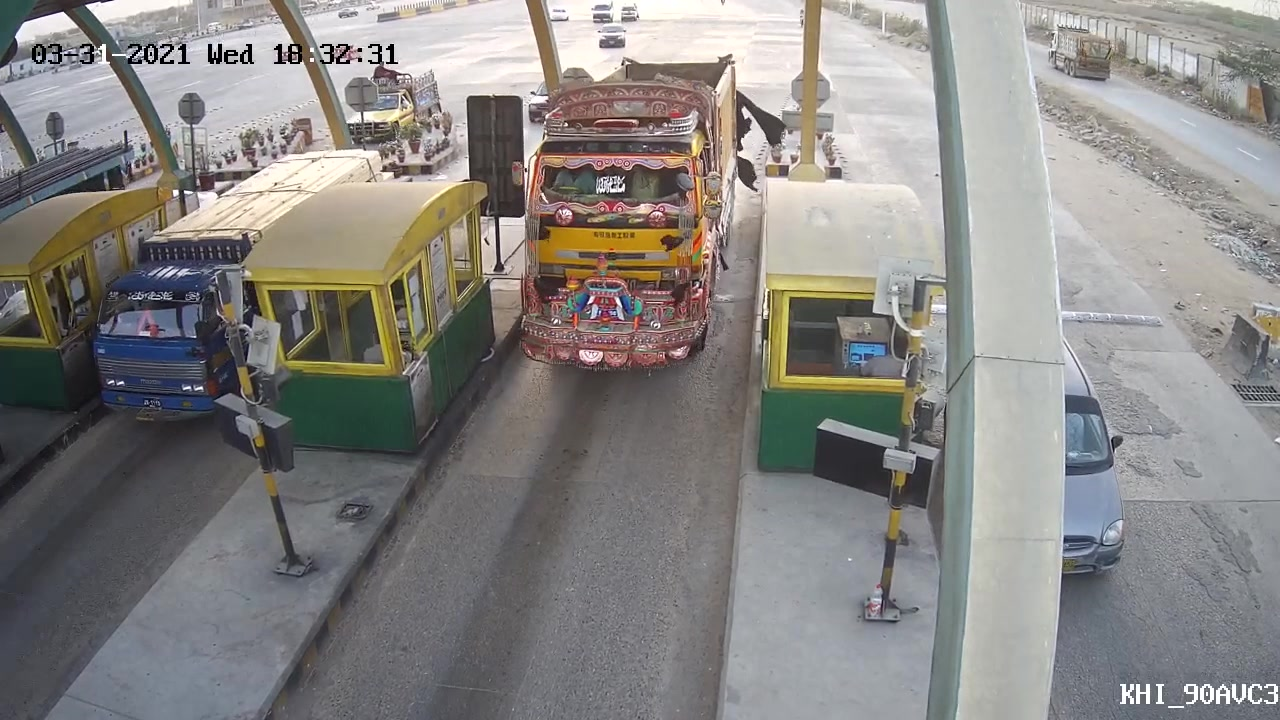F5: (509, 65, 734, 380)
